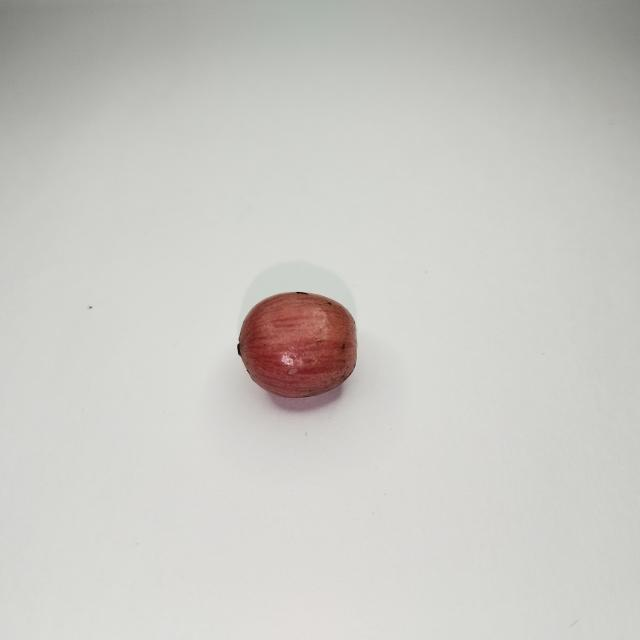Sano: (237, 291, 356, 396)
